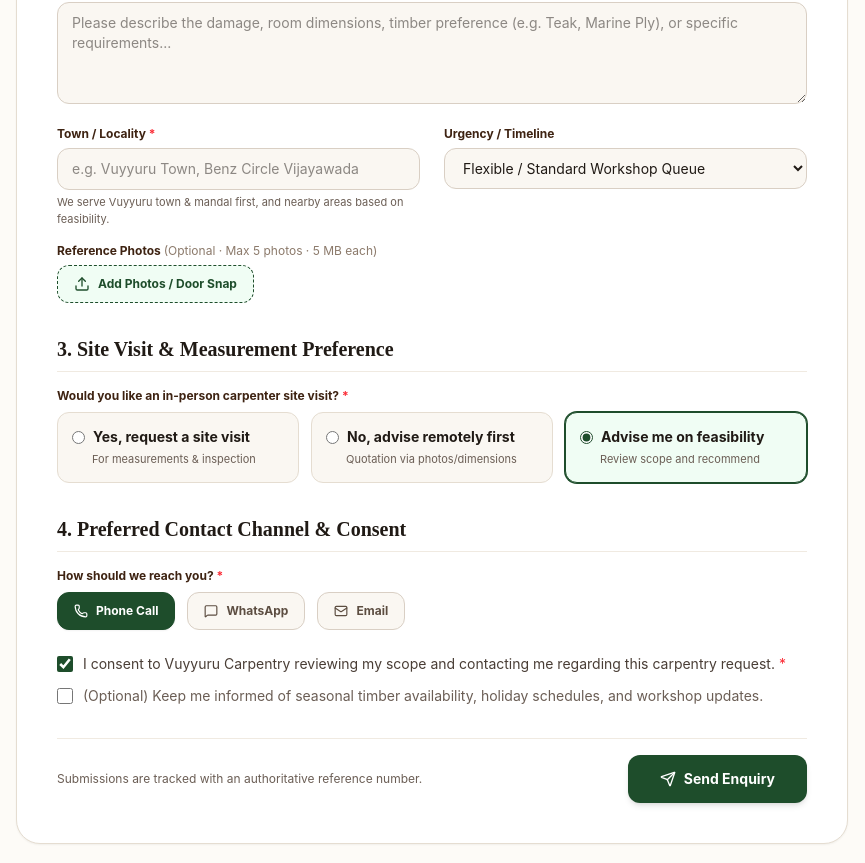
Test: Screen 09: Contact & Site-Visit Request Acceptance Tests › 2. validates required fields on client submission attempt
The image size is (865, 863).
(page scrolled)
Note: Submit empty form
Click the button "Send Enquiry" at (717, 778), box [628, 754, 807, 802]
(page scrolled)
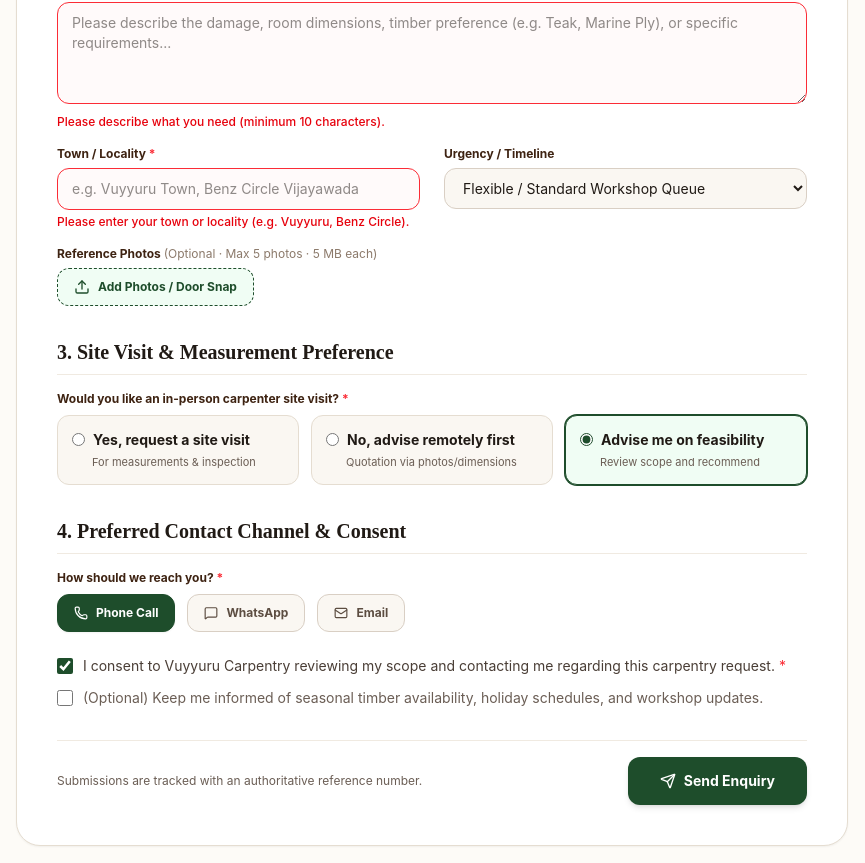
Check: the text "Please describe what you need (minimum 10 characters)." is shown, box [57, 114, 385, 128]
Check: the text "Please enter your town or locality (e.g. Vuyyuru, Benz Circle)." is shown, box [57, 214, 420, 230]
